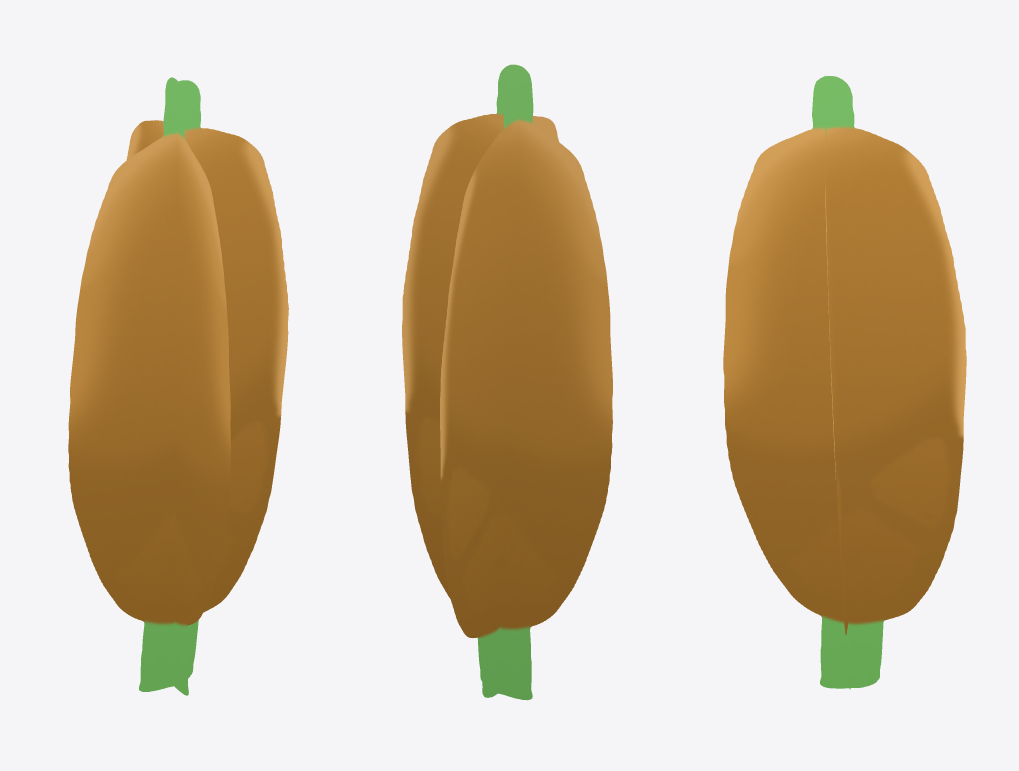
Rendered from Panchito.fbx.
The picture shows the model from 3 angles, left to right: view 1: azimuth 30°, elevation 25°; view 2: azimuth 150°, elevation 25°; view 3: azimuth 270°, elevation 25°; orthographic projection. The views are drawn at different scales.
Parts seen in each view (by area): view 1: Panchito; view 2: Panchito; view 3: Panchito.
Boxes of the visible parts, <box> form: Panchito: <box>68,77,288,695</box>; Panchito: <box>402,64,612,700</box>; Panchito: <box>723,75,966,689</box>.
Bounding box in the file's own units: 63.1 × 131 × 58.9.
